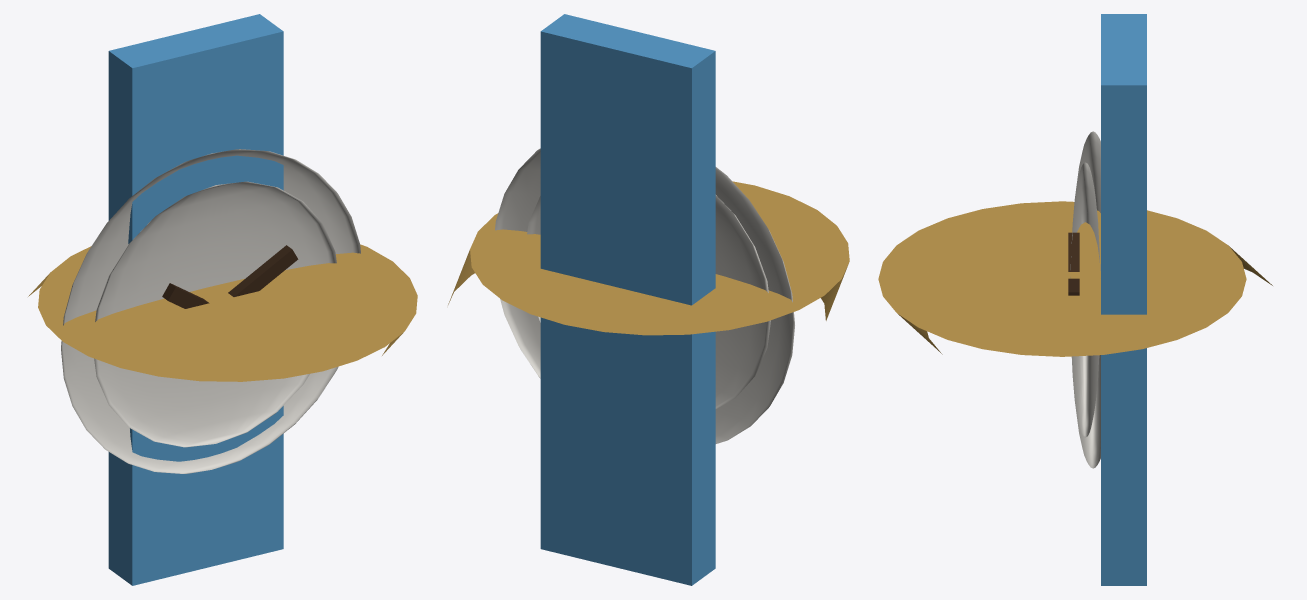
The model's file is watch.glb.
3 renders of one model, left to right at view 1: azimuth 30°, elevation 25°; view 2: azimuth 150°, elevation 25°; view 3: azimuth 270°, elevation 25°, orthographic. The views are drawn at different scales.
Visible parts, largest first — view 1: ClayAsset; view 2: ClayAsset; view 3: ClayAsset.
Part boxes in pixels (x1,y1,x2,y2): ClayAsset: (28,14,417,585); ClayAsset: (448,14,849,585); ClayAsset: (878,14,1272,585).
Bounding box in the file's own units: 0.48 × 0.72 × 0.54.
